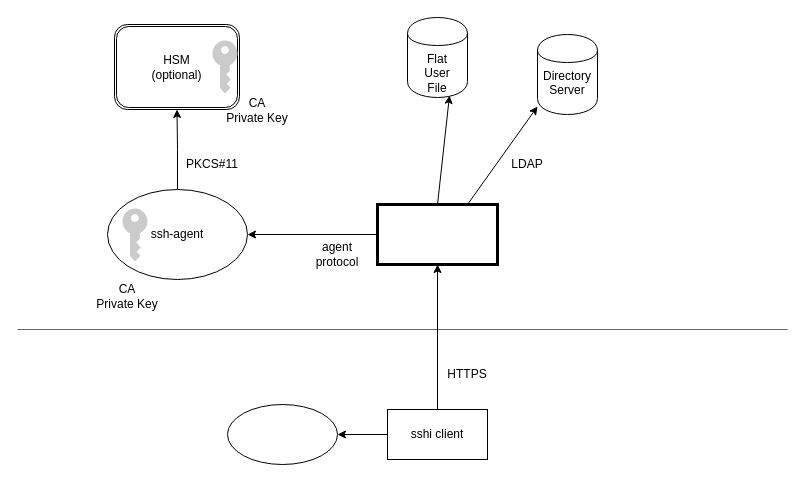
Some shapes in this 805 by 482 pixel diagram are drawn without their labels. Each missing label, with the centre of its shape:
"ssh-inscribe server" goes at pixel 437 234.
"user ssh-agent (optional)" goes at pixel 282 434.
